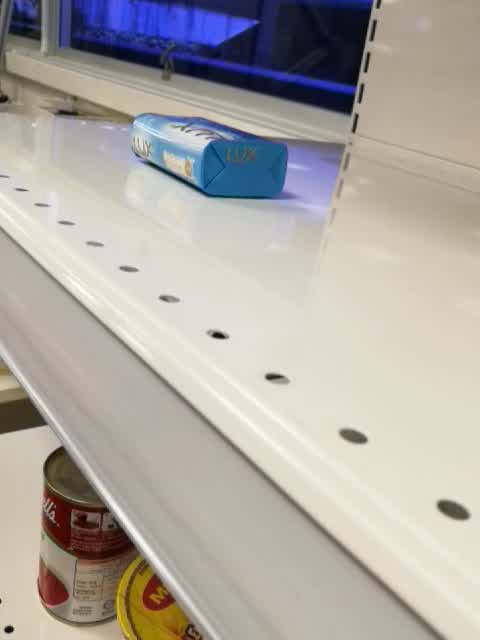soap: (129, 110, 288, 202)
